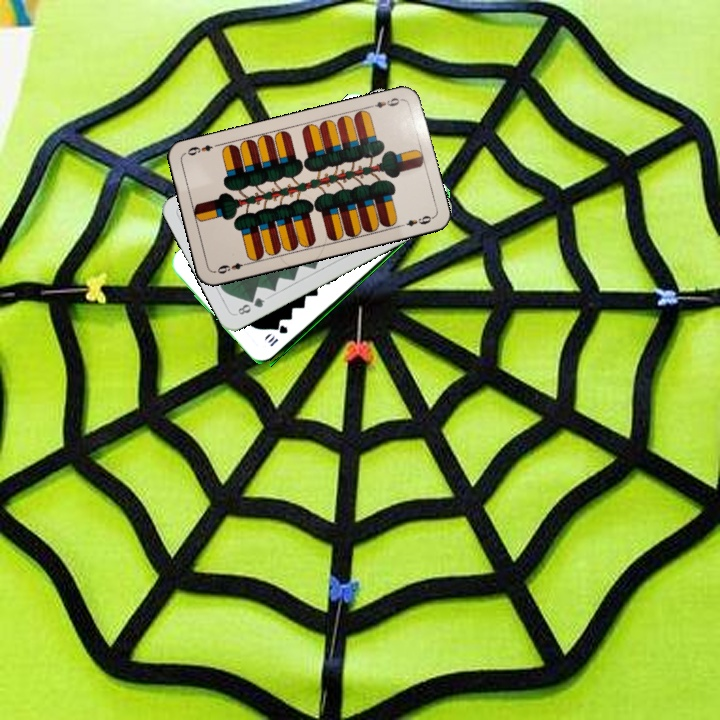E9: (211, 258, 251, 276), (365, 94, 405, 111)
G10: (264, 322, 290, 349)
G8: (232, 293, 267, 317)
